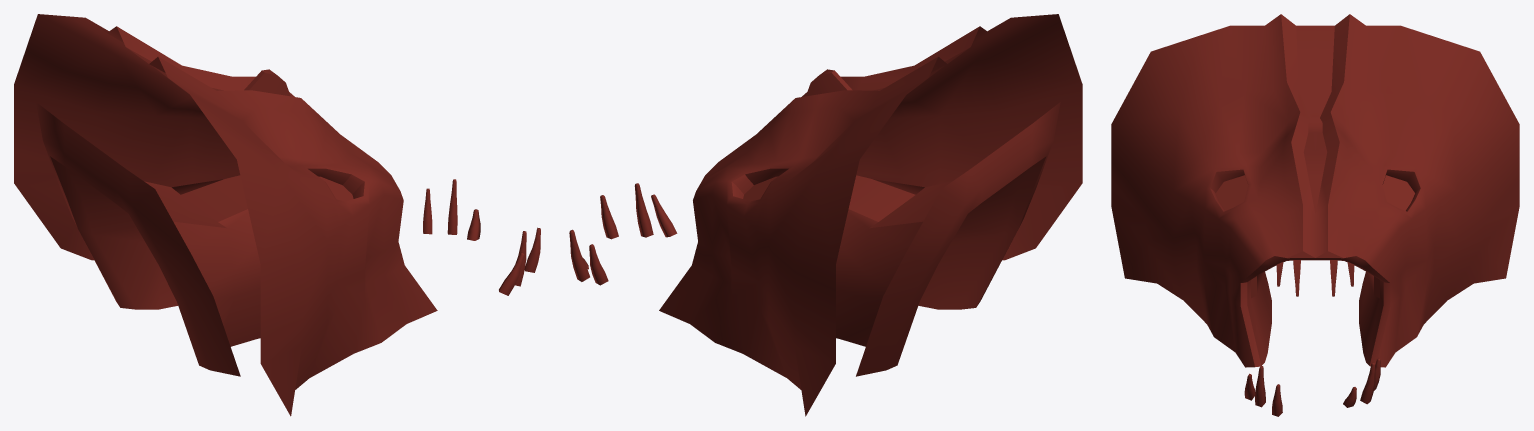
Rendered from CaveEntrance_UV (2).fbx.
The picture shows the model from 3 angles, left to right: view 1: azimuth 30°, elevation 25°; view 2: azimuth 150°, elevation 25°; view 3: azimuth 270°, elevation 25°; orthographic projection. The views are drawn at different scales.
Visible parts, largest first — view 1: Object001; view 2: Object001; view 3: Object001.
Boxes of the visible parts, <box> form: Object001: <box>14,14,540,416</box>; Object001: <box>569,14,1082,416</box>; Object001: <box>1111,14,1519,416</box>.
Size of the model in its own units: 33.15 by 22.45 by 32.89.
